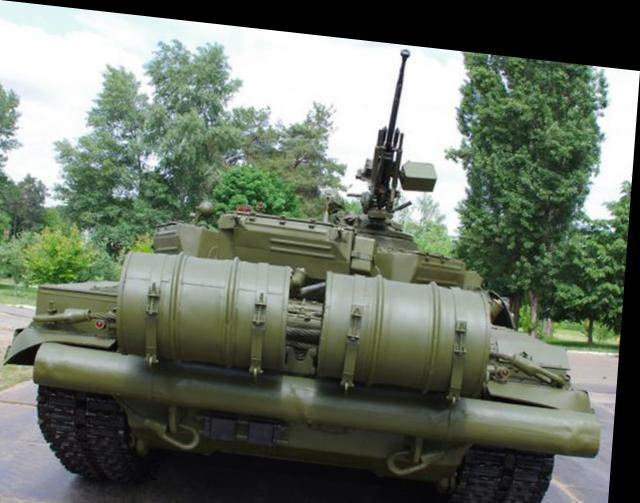tank: (20, 176, 611, 502)
